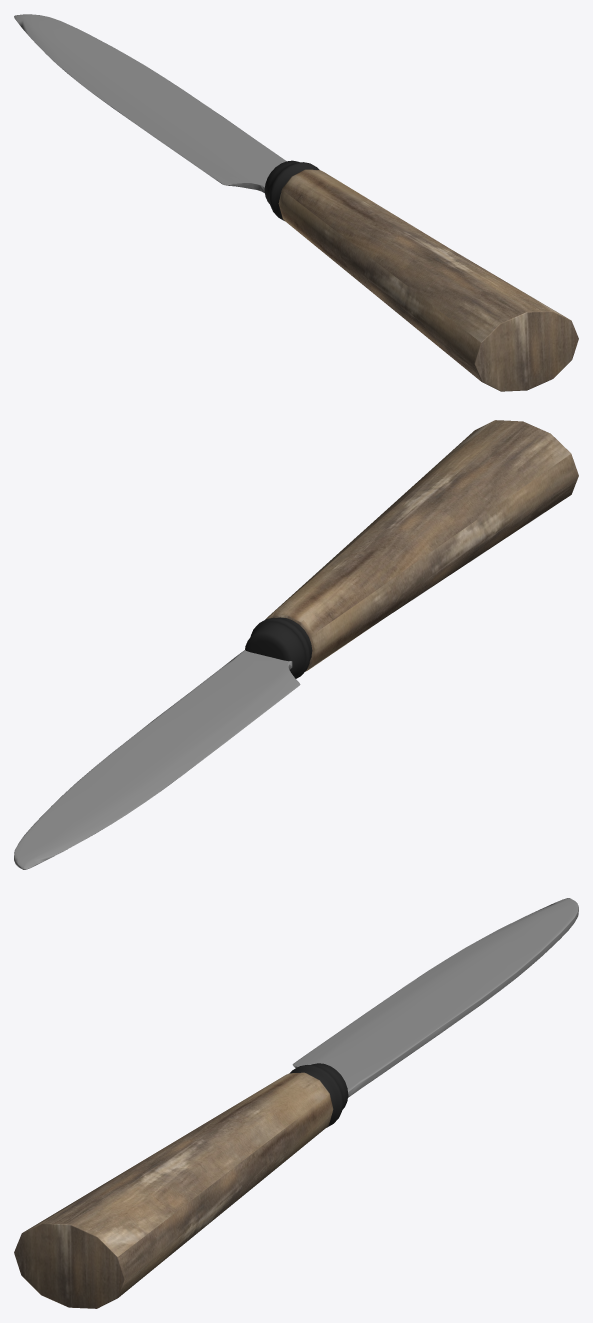
The model's file is Knife.FBX.
3 views of the same model, one above another, from view 1: azimuth 30°, elevation 25°; view 2: azimuth 150°, elevation 25°; view 3: azimuth 330°, elevation 25° (orthographic). The views are drawn at different scales.
Visible parts, largest first — view 1: Knife; view 2: Knife; view 3: Knife.
Part boxes in pixels (x1,y1,x2,y2): Knife: (14, 14, 578, 391); Knife: (14, 420, 578, 869); Knife: (14, 898, 578, 1308).
Size of the model in its own units: 0.235 by 0.1672 by 1.91.
Materials: 3 (1 with a texture image).
